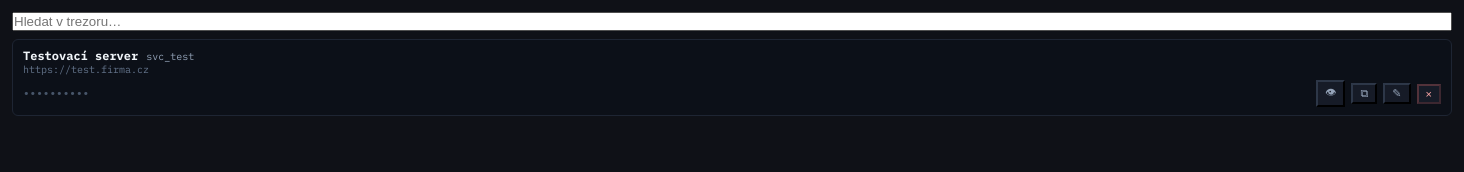
Test case: VaultEntryList › na vyžádání heslo zobrazí a znovu skryje
Click the button named "Zobrazit heslo — Testovací server": {"x": 1331, "y": 94} [1316, 80, 1346, 107]
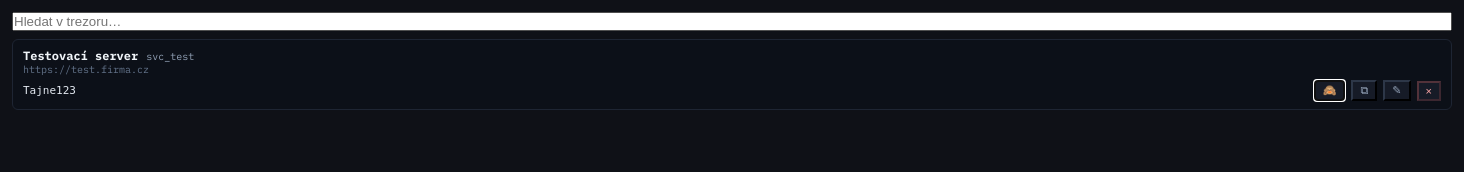
Expected: the text "Tajne123" is shown, [23, 84, 76, 97]
Click the button named "Skrýt heslo — Testovací server": {"x": 1330, "y": 90} [1314, 80, 1346, 101]
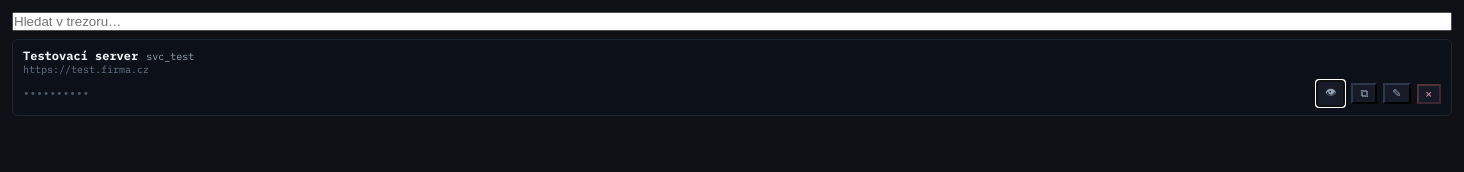
Expected: the text "Tajne123" is gone
